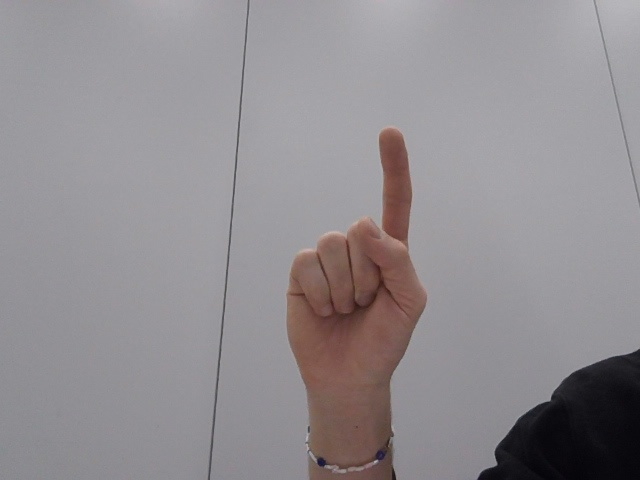up: (256, 117, 445, 415)
